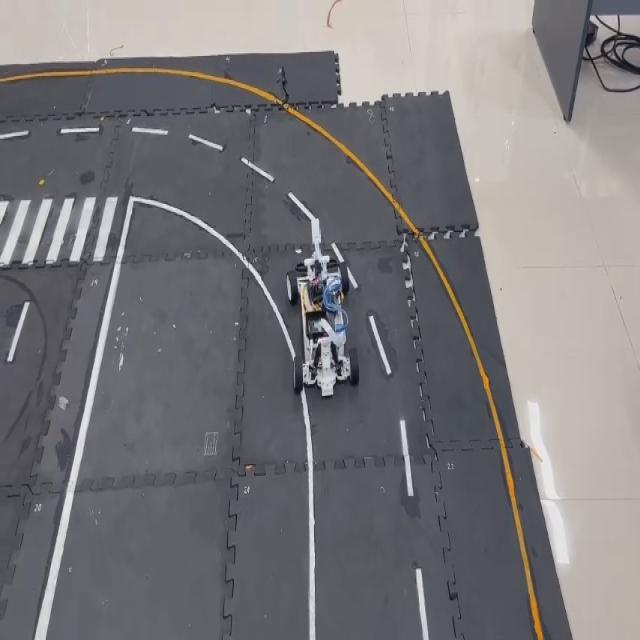SiCo-CAR: (283, 189, 360, 399)
